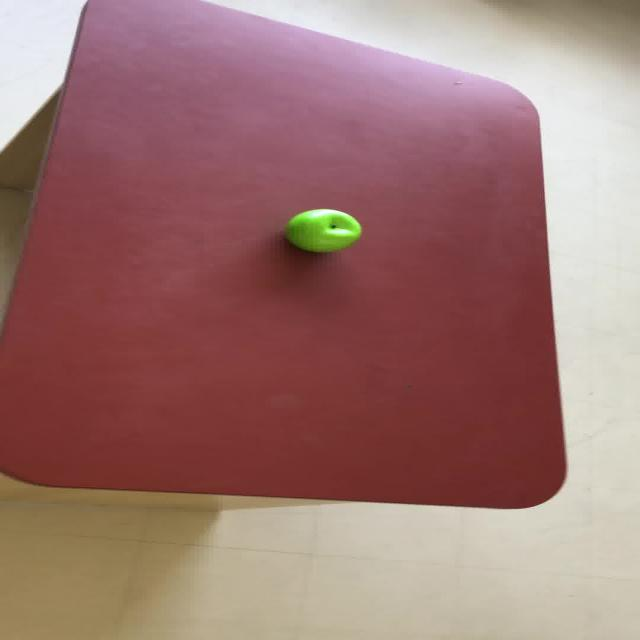apple: (284, 208, 361, 252)
